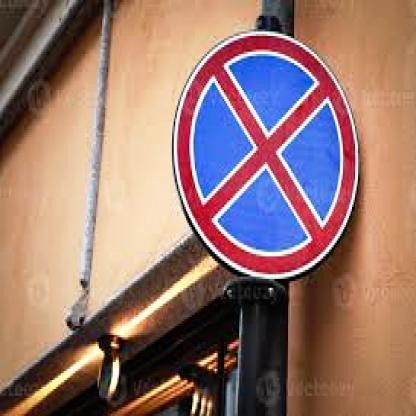No stopping: (173, 25, 363, 274)
